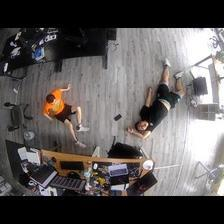fall: (127, 59, 185, 138), (40, 83, 90, 145)
